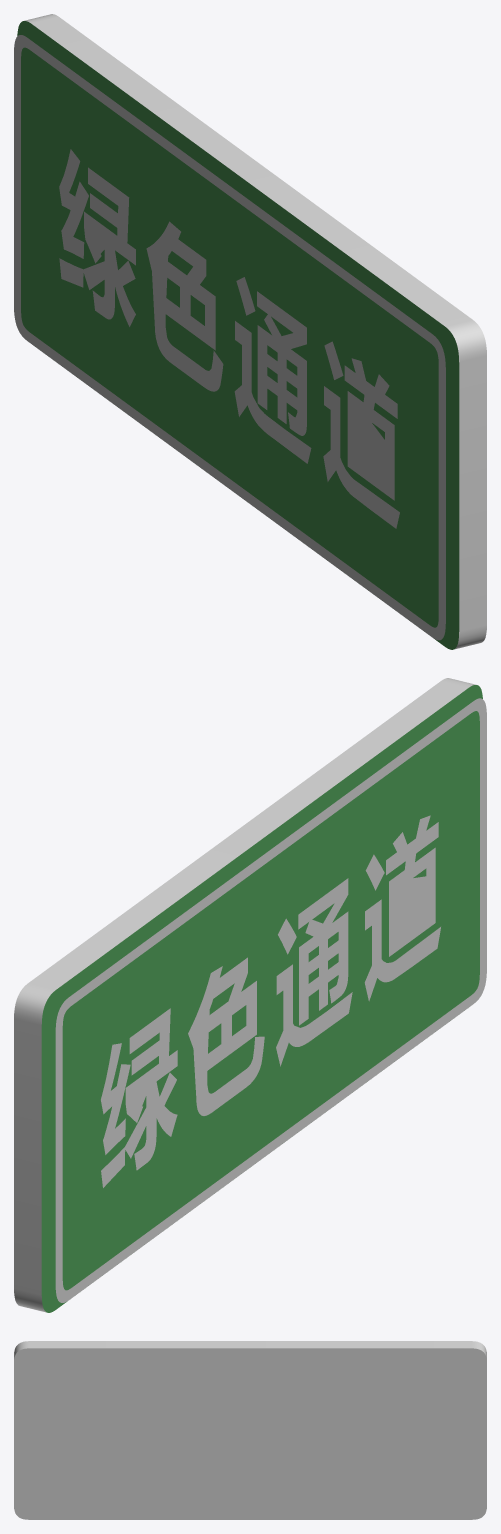
File: Passable_Lane.fbx
The picture shows the model from 3 angles, top to bottom: view 1: azimuth 30°, elevation 25°; view 2: azimuth 150°, elevation 25°; view 3: azimuth 270°, elevation 25°; orthographic projection. The views are drawn at different scales.
Parts seen in each view (by area): view 1: Passable_Lane; view 2: Passable_Lane; view 3: Passable_Lane.
Boxes of the visible parts, left/top/right/bottom form: Passable_Lane: left=14, top=14, right=486, bottom=649; Passable_Lane: left=14, top=678, right=486, bottom=1312; Passable_Lane: left=14, top=1341, right=486, bottom=1519.
Size of the model in its own units: 0.0262 by 0.22 by 0.55.
